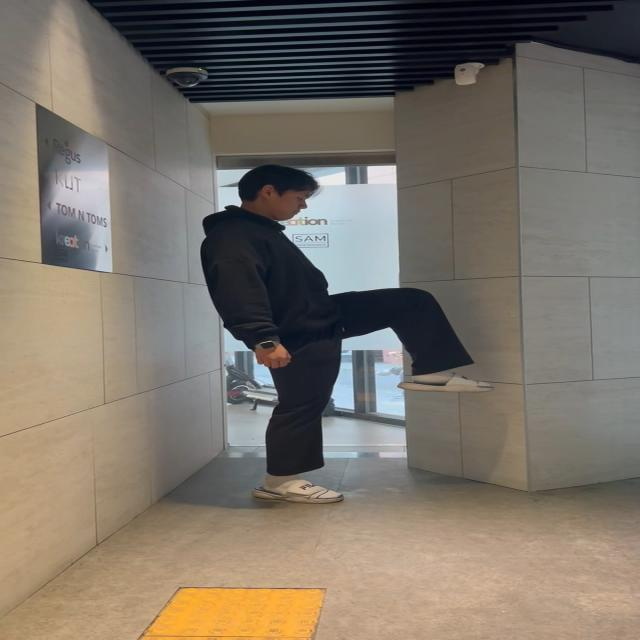knee: (301, 288, 497, 400)
